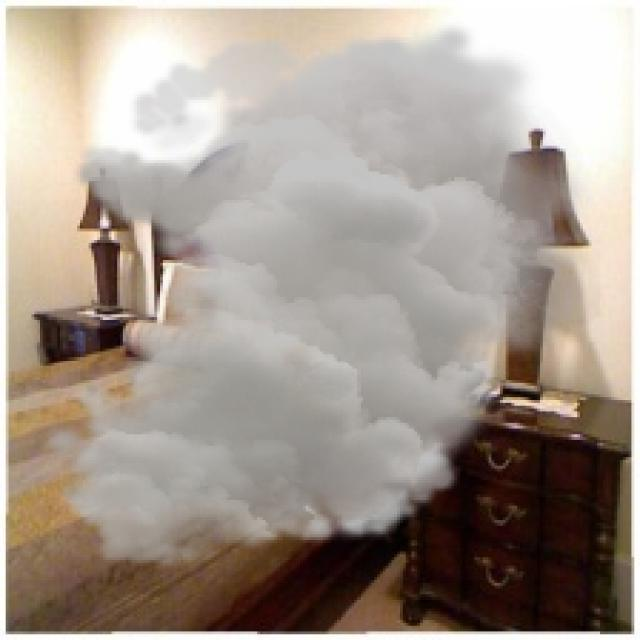smoke: (37, 20, 606, 571)
